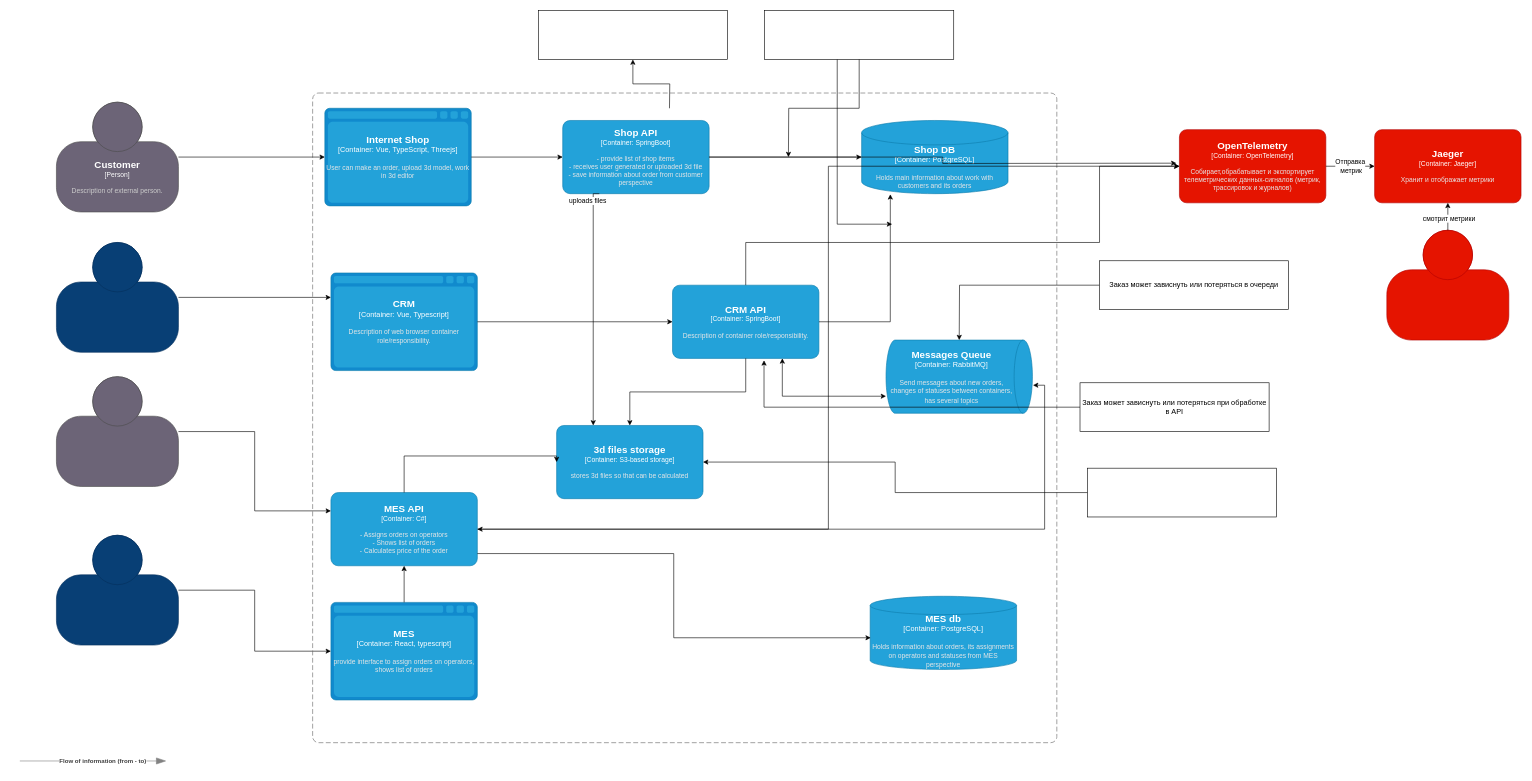
This 1532x781 diagram has some shape labels left out. The box of each missing label's shape, as (x1, y1, x2, y2) in pixels:
API user [Person] Description of external person.: (56, 376, 178, 486)
Jewerly Store System [Software System]: (312, 92, 1057, 743)
Operator [Person] Takes order in work, manufactures jewerly: (56, 535, 178, 645)
Seller [Person] Operates with order, confirms manufacturing for the user: (56, 242, 178, 352)
User [Person] Пользователь: (1386, 230, 1509, 340)
Заказ может зависнуть в момент загрузки 3d модели: (538, 10, 727, 59)
Заказ может зависнуть при запросе модели в 3S: (1087, 468, 1276, 517)
Заказ может зависнуть при ошибки записи/обновления данных в бд: (764, 10, 954, 59)
